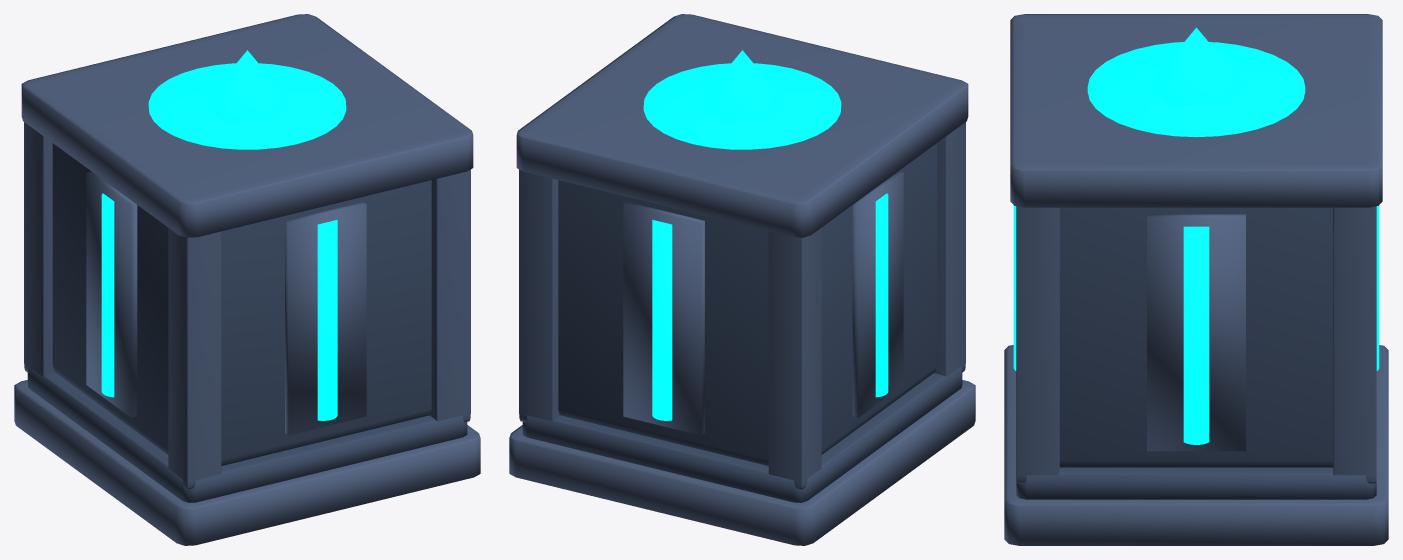
Rendered from solid-wall.glb.
3 views of the same model, side by side, from view 1: azimuth 30°, elevation 25°; view 2: azimuth 150°, elevation 25°; view 3: azimuth 270°, elevation 25° (orthographic). The views are drawn at different scales.
Visible parts, largest first — view 1: SolidWall; view 2: SolidWall; view 3: SolidWall.
Boxes of the visible parts, x1=… form: SolidWall: x1=14, y1=14, x2=480, y2=545; SolidWall: x1=509, y1=14, x2=975, y2=545; SolidWall: x1=1004, y1=14, x2=1388, y2=545.
Bounding box in the file's own units: 1.94 × 2.44 × 1.94.
